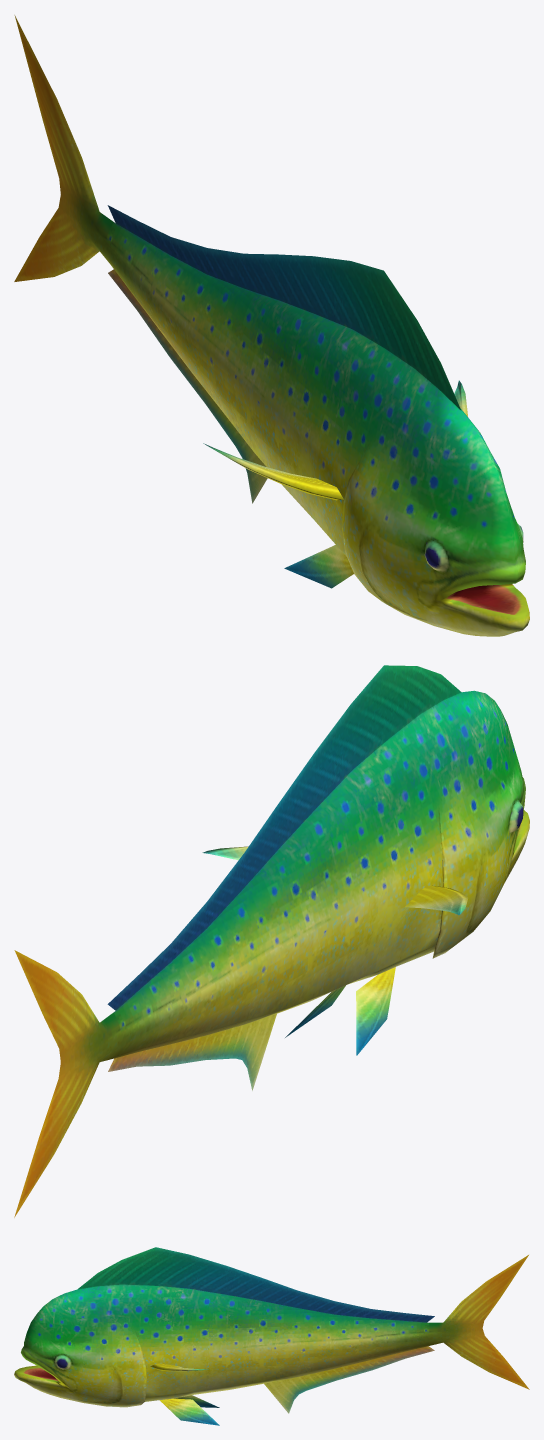
Rendered from FishShiira.glb.
The picture shows the model from 3 angles, top to bottom: view 1: azimuth 30°, elevation 25°; view 2: azimuth 150°, elevation 25°; view 3: azimuth 270°, elevation 25°; orthographic projection. The views are drawn at different scales.
Parts seen in each view (by area): view 1: FishShiira__mShiira; view 2: FishShiira__mShiira; view 3: FishShiira__mShiira.
Part boxes in pixels (x1=…): FishShiira__mShiira: x1=14, y1=15, x2=529, y2=636; FishShiira__mShiira: x1=14, y1=665, x2=529, y2=1217; FishShiira__mShiira: x1=14, y1=1247, x2=529, y2=1425.
Size of the model in its own units: 6.28 by 7.84 by 21.62.
Materials: 1 (1 with a texture image).
